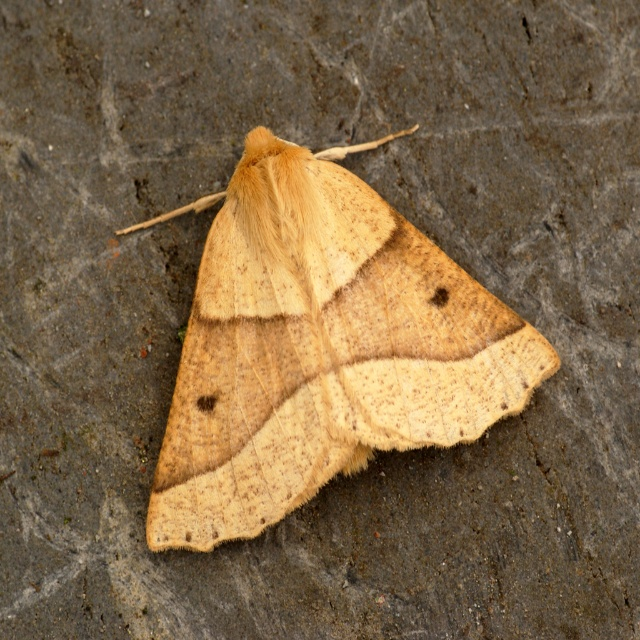Moths and butterflies: (114, 125, 563, 560)
